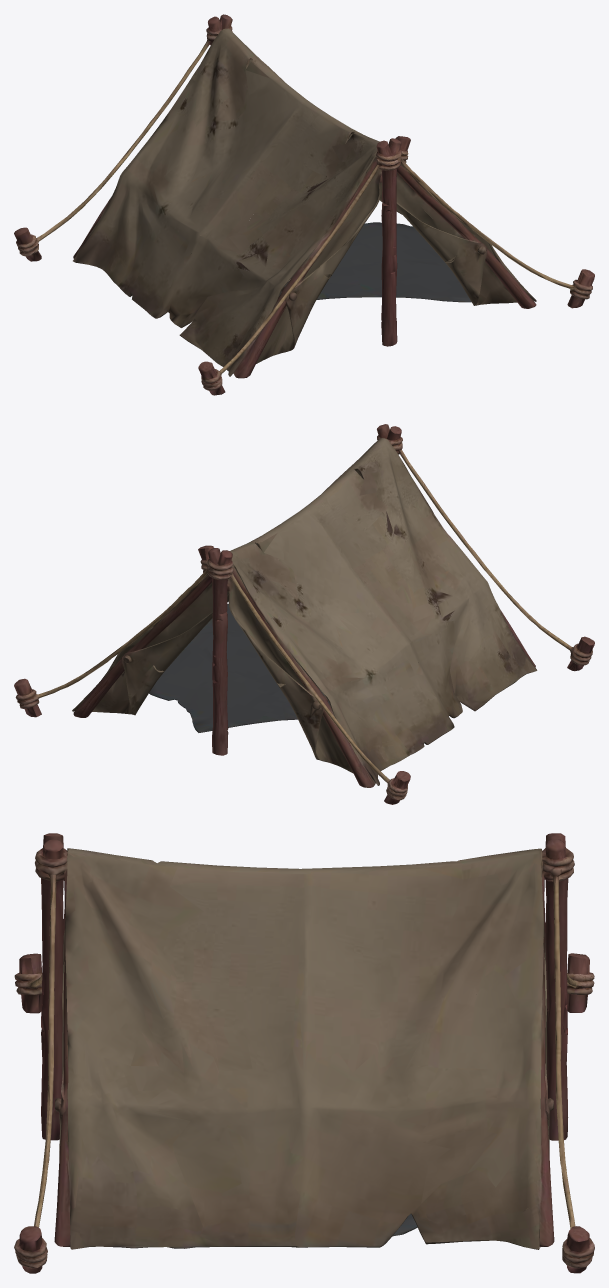
The model's file is tent_big_idle.glb.
The picture shows the model from 3 angles, top to bottom: view 1: azimuth 30°, elevation 25°; view 2: azimuth 150°, elevation 25°; view 3: azimuth 270°, elevation 25°; orthographic projection. The views are drawn at different scales.
Visible parts, largest first — view 1: tripo_node_fedd203d-c448-4c82-a158-e9672ab219e4; view 2: tripo_node_fedd203d-c448-4c82-a158-e9672ab219e4; view 3: tripo_node_fedd203d-c448-4c82-a158-e9672ab219e4.
Part boxes in pixels (x1,y1,x2,y2): tripo_node_fedd203d-c448-4c82-a158-e9672ab219e4: (14, 14, 594, 395); tripo_node_fedd203d-c448-4c82-a158-e9672ab219e4: (14, 424, 594, 804); tripo_node_fedd203d-c448-4c82-a158-e9672ab219e4: (14, 833, 594, 1273).
Bounding box in the file's own units: 8.06 × 4 × 6.92.
1 material, 1 textured.
